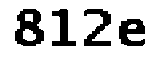1: (49, 6, 77, 49)
2: (79, 5, 116, 51)
8: (10, 4, 47, 49)
e: (115, 17, 148, 51)
